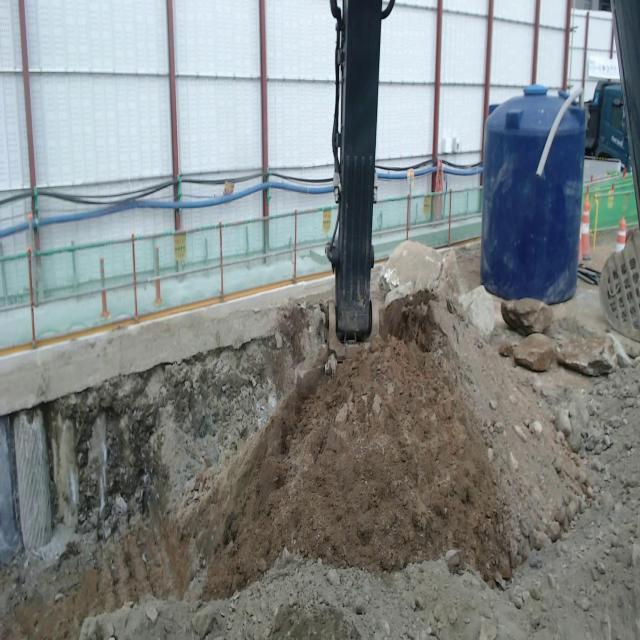red-sand: (0, 293, 594, 639)
stone: (378, 241, 461, 305), (556, 333, 617, 376), (501, 298, 553, 336), (458, 286, 495, 335), (513, 333, 557, 371)
white-sand: (80, 364, 640, 639)
